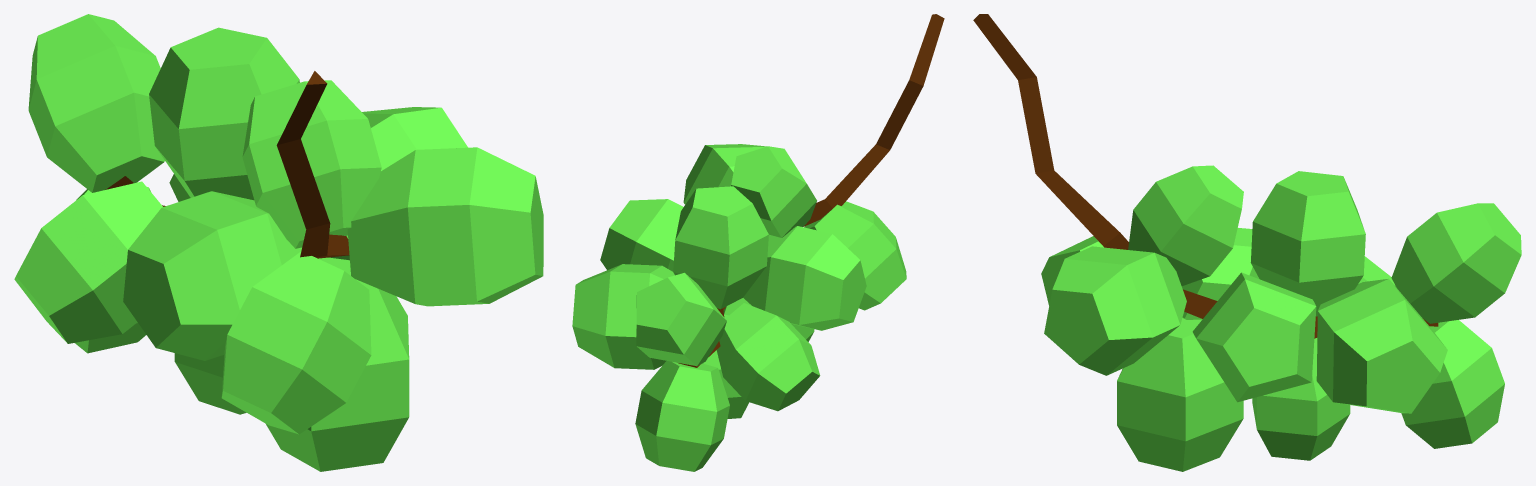
File: grapes01.obj
3 renders of one model, left to right at view 1: azimuth 30°, elevation 25°; view 2: azimuth 150°, elevation 25°; view 3: azimuth 270°, elevation 25°, orthographic. The views are drawn at different scales.
Parts seen in each view (by area): view 1: Cylinder.010; view 2: Cylinder.010; view 3: Cylinder.010.
Boxes of the visible parts, x1,y1,x2,y2 form: Cylinder.010: (14,14,543,471); Cylinder.010: (572,14,944,471); Cylinder.010: (973,14,1521,471).
Size of the model in its own units: 0.0617 by 0.0793 by 0.1004.
Materials: 1 (1 with a texture image).
